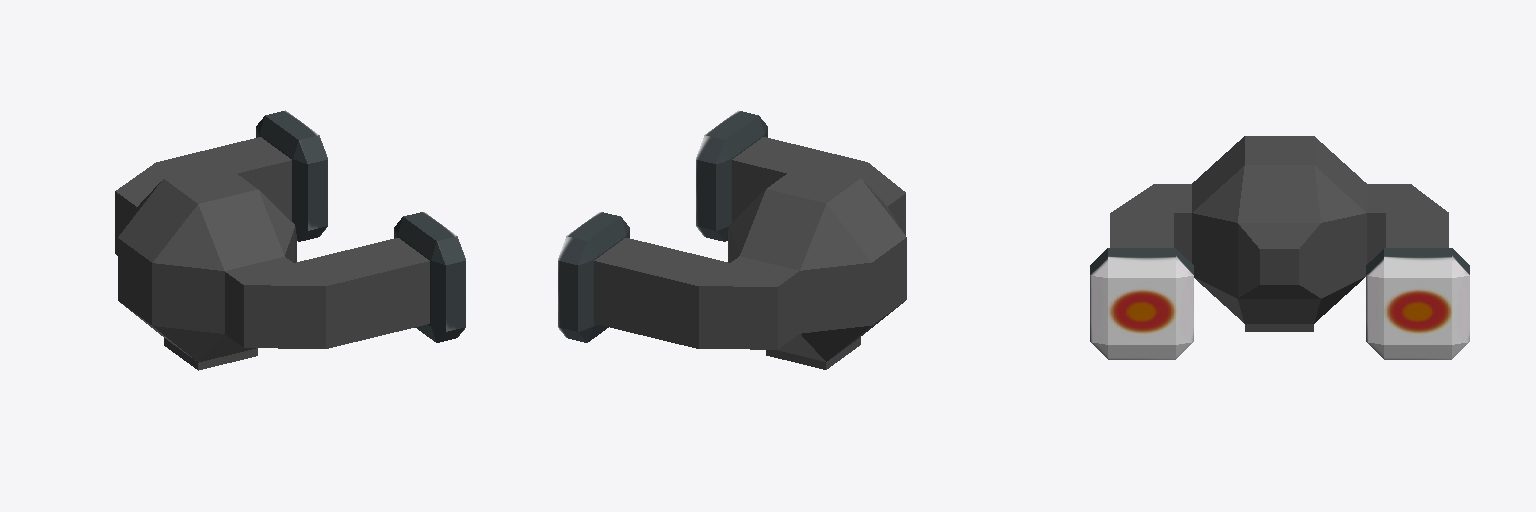
The picture shows the model from 3 angles: view 1: azimuth 30°, elevation 25°; view 2: azimuth 150°, elevation 25°; view 3: azimuth 270°, elevation 25°; orthographic projection.
Parts seen in each view (by area): view 1: 立方体.001_立方体.003; view 2: 立方体.001_立方体.003; view 3: 立方体.001_立方体.003.
Boxes of the visible parts, <box> form: 立方体.001_立方体.003: <box>115,110,465,370</box>; 立方体.001_立方体.003: <box>558,110,906,369</box>; 立方体.001_立方体.003: <box>1090,136,1469,359</box>.
Size of the model in its own units: 3.2 by 2.1 by 4.33.
Materials: 1 (1 with a texture image).